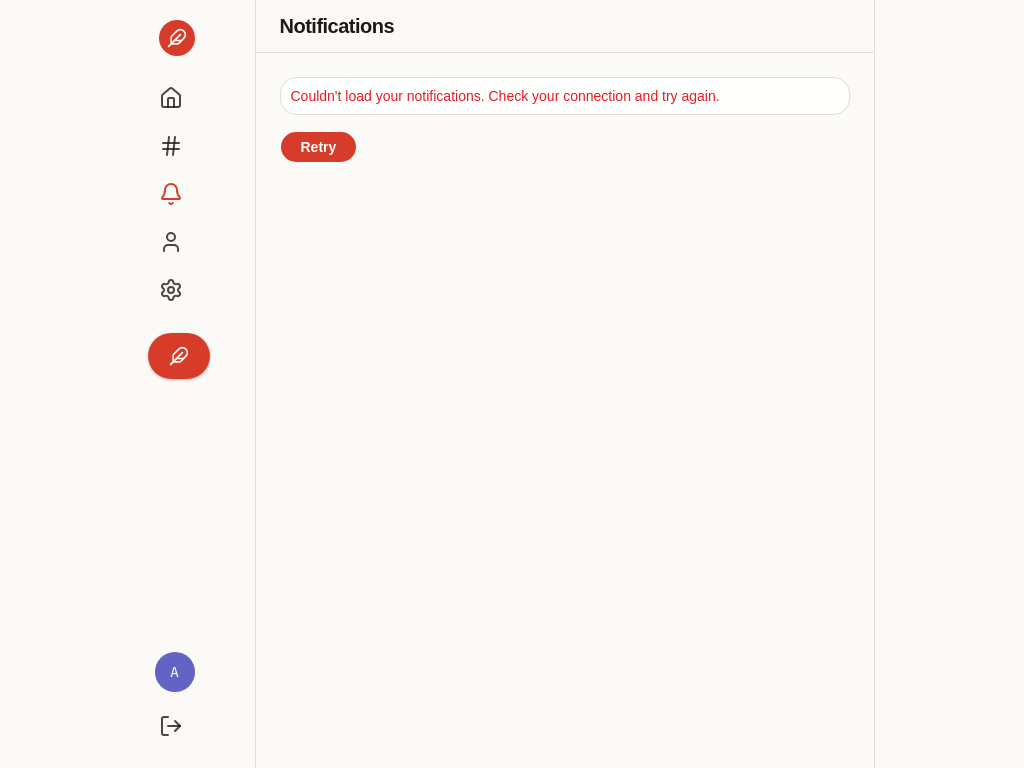
it: Notifications › shows an error with Retry when loading fails, and recovers
Expected: the text "Couldn't load your notifications" is shown, [290,88,720,104]
Step 1. Click the button "Retry" → (318, 147), box [280,131,357,163]
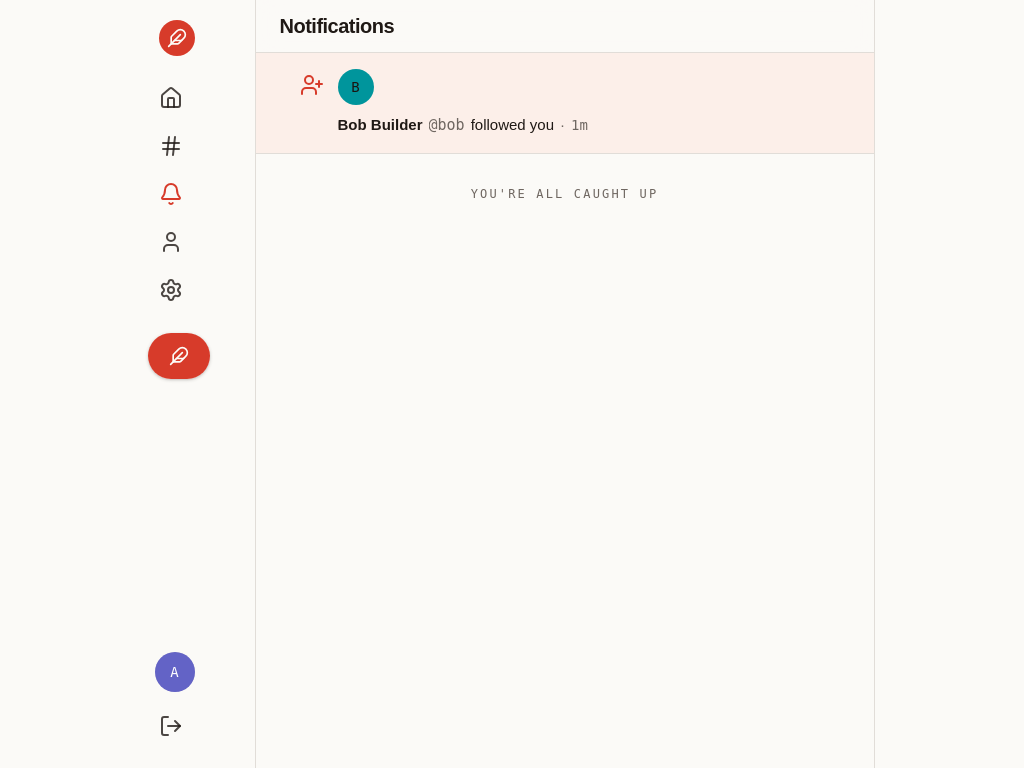
Result: the element named "Bob Builder followed you" is shown at [256,53,874,154]
